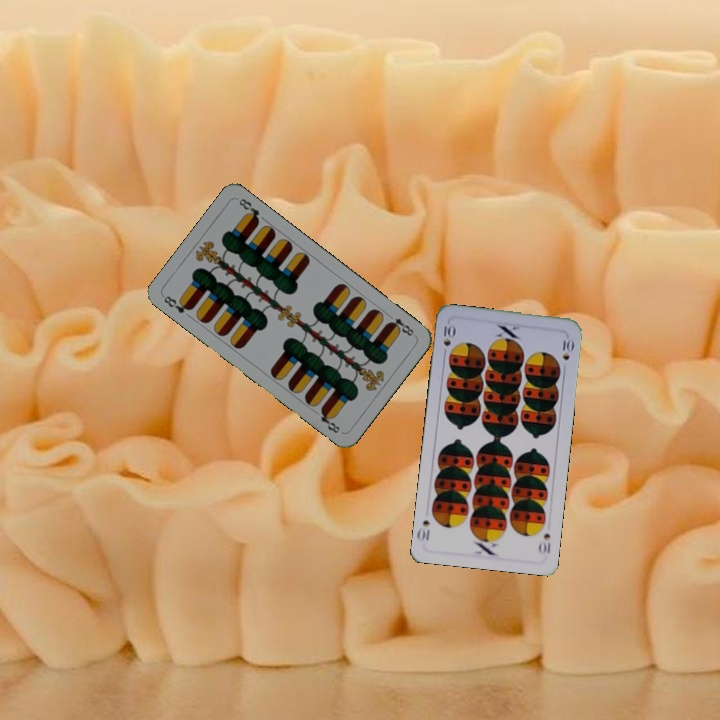E8: (383, 309, 417, 339), (160, 292, 195, 316)
S10: (439, 321, 457, 359), (535, 529, 553, 556)
